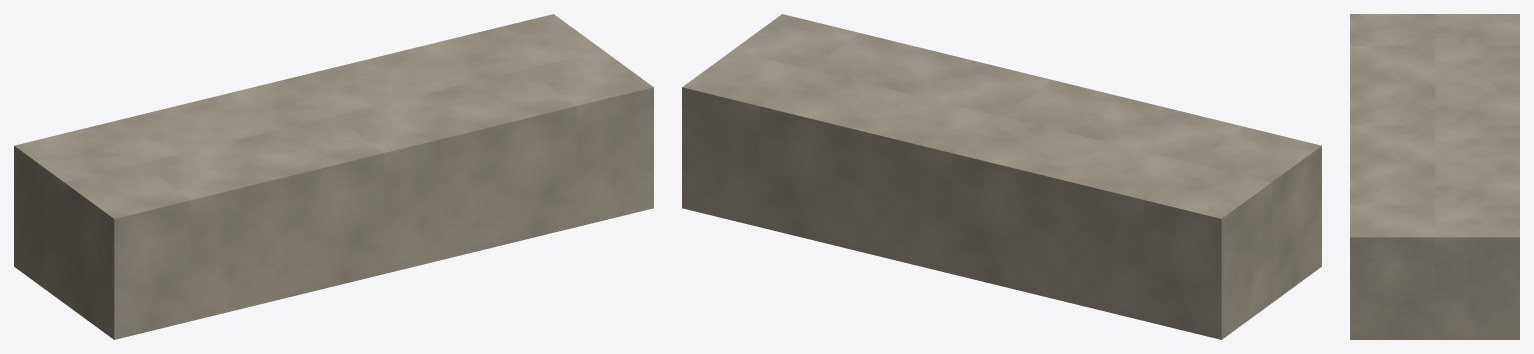
The model's file is Ruin_Wall_3_LOD2.gltf.
3 views of the same model, side by side, from view 1: azimuth 30°, elevation 25°; view 2: azimuth 150°, elevation 25°; view 3: azimuth 270°, elevation 25° (orthographic). The views are drawn at different scales.
Parts seen in each view (by area): view 1: Ruin_Wall_3_LOD2; view 2: Ruin_Wall_3_LOD2; view 3: Ruin_Wall_3_LOD2.
Boxes of the visible parts, x1,y1,x2,y2 form: Ruin_Wall_3_LOD2: [14, 14, 653, 339]; Ruin_Wall_3_LOD2: [682, 14, 1321, 339]; Ruin_Wall_3_LOD2: [1350, 14, 1519, 339].
Size of the model in its own units: 2.8 by 0.6 by 0.9.
1 material, 1 textured.
